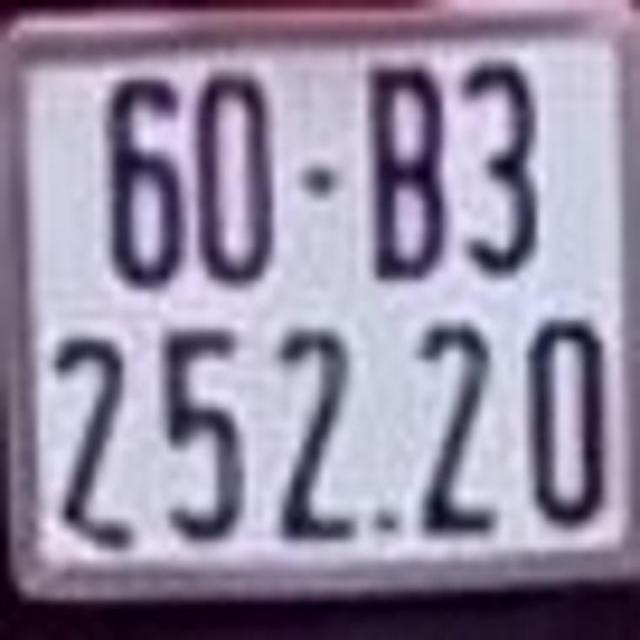0: (520, 310, 604, 535), (189, 63, 272, 288)
2: (411, 309, 507, 538), (51, 322, 136, 560), (272, 320, 357, 547)
3: (458, 57, 541, 274)
5: (159, 320, 243, 544)
6: (99, 66, 186, 293)
B: (357, 50, 449, 284)
